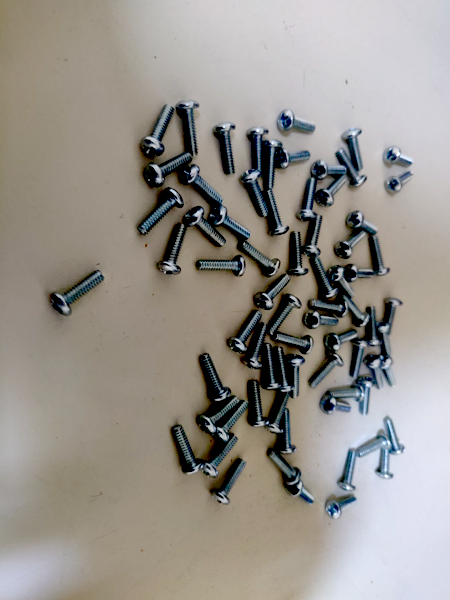shortscrew: (51, 270, 106, 316), (137, 188, 184, 236), (181, 164, 224, 208), (140, 104, 175, 157), (184, 206, 227, 249), (211, 458, 248, 506), (200, 434, 239, 478), (144, 152, 193, 187), (239, 239, 281, 278), (198, 396, 241, 434), (172, 424, 204, 475), (157, 223, 187, 277), (212, 400, 249, 442), (228, 310, 263, 354), (200, 353, 231, 402), (209, 206, 252, 241), (267, 294, 302, 336), (240, 169, 269, 219), (175, 100, 200, 156), (254, 274, 291, 311), (308, 351, 344, 389), (241, 322, 268, 370), (267, 449, 302, 486), (336, 148, 367, 189), (263, 189, 290, 236), (213, 122, 236, 176), (310, 257, 339, 299), (340, 293, 371, 329), (196, 256, 248, 277), (248, 379, 270, 428), (315, 176, 348, 208), (262, 139, 283, 189), (267, 391, 290, 435), (273, 347, 295, 393), (341, 129, 365, 171), (334, 229, 367, 259), (247, 127, 270, 170), (261, 343, 282, 390), (297, 178, 319, 222), (327, 265, 355, 299), (271, 333, 314, 355), (289, 232, 309, 277), (356, 434, 392, 459), (277, 109, 316, 132), (370, 235, 391, 277), (279, 409, 298, 454), (324, 496, 358, 521), (346, 211, 380, 236), (338, 450, 358, 492), (303, 216, 323, 258), (287, 355, 306, 399), (349, 339, 369, 379), (384, 418, 405, 456), (310, 298, 349, 318), (275, 148, 311, 169), (325, 330, 359, 352), (303, 310, 339, 330), (312, 160, 347, 180), (287, 481, 316, 505), (386, 170, 414, 194), (365, 355, 384, 390), (367, 306, 383, 347), (386, 298, 403, 336), (320, 395, 352, 415), (359, 377, 375, 417), (383, 147, 414, 167), (376, 448, 395, 480), (379, 356, 397, 388), (344, 265, 374, 283), (377, 323, 393, 356)
